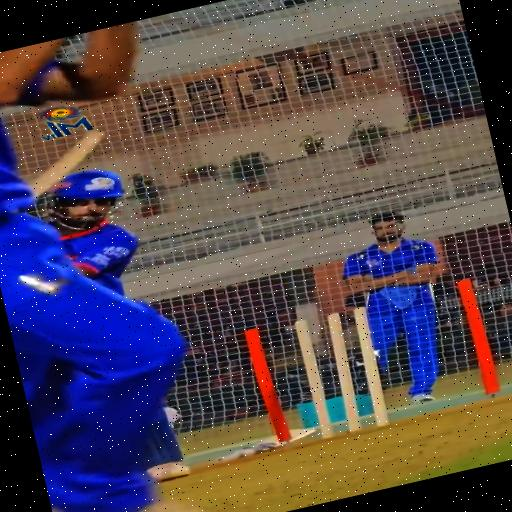Cricket bat: (31, 129, 105, 199)
